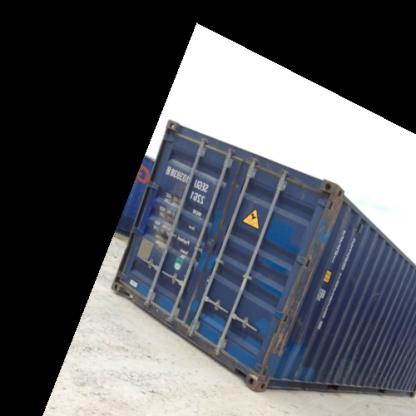Damage: (266, 265, 306, 355), (303, 195, 340, 281), (328, 349, 371, 382)
